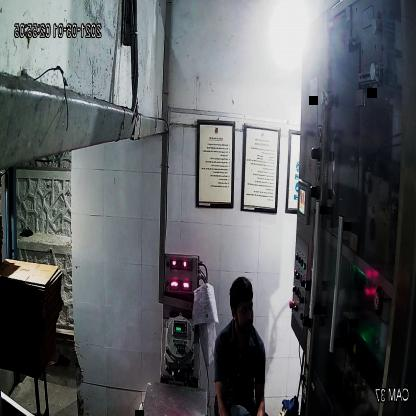no_goggles: (230, 299, 255, 320)
